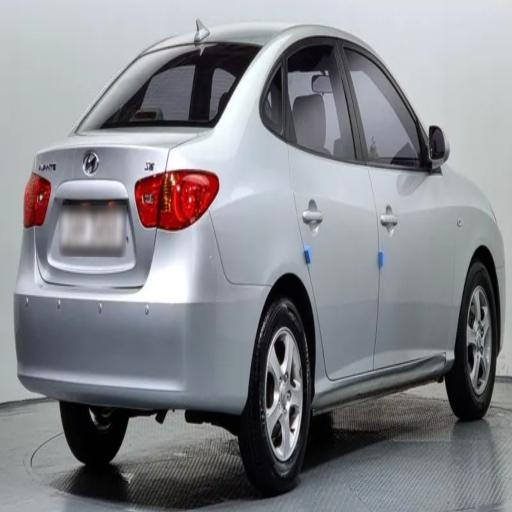normal: (6, 10, 508, 510)
